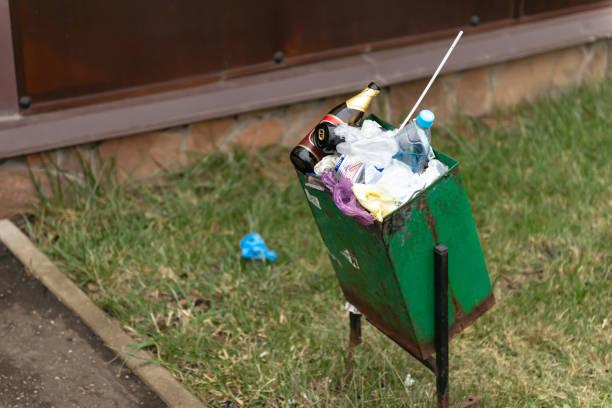trash: (286, 83, 447, 216), (227, 218, 285, 270)
trash_can_overflow: (265, 67, 500, 404)
